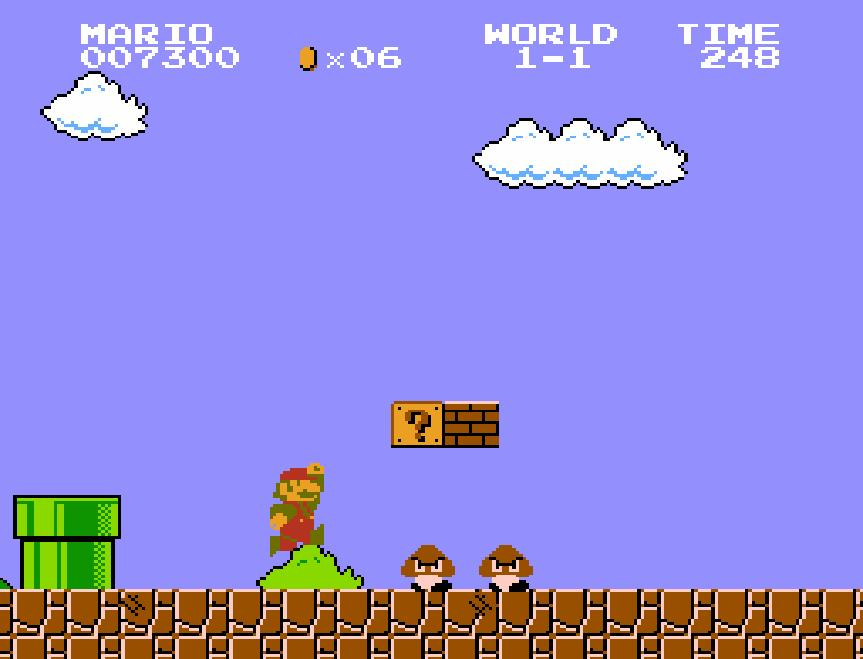big_mario: (267, 461, 325, 559)
